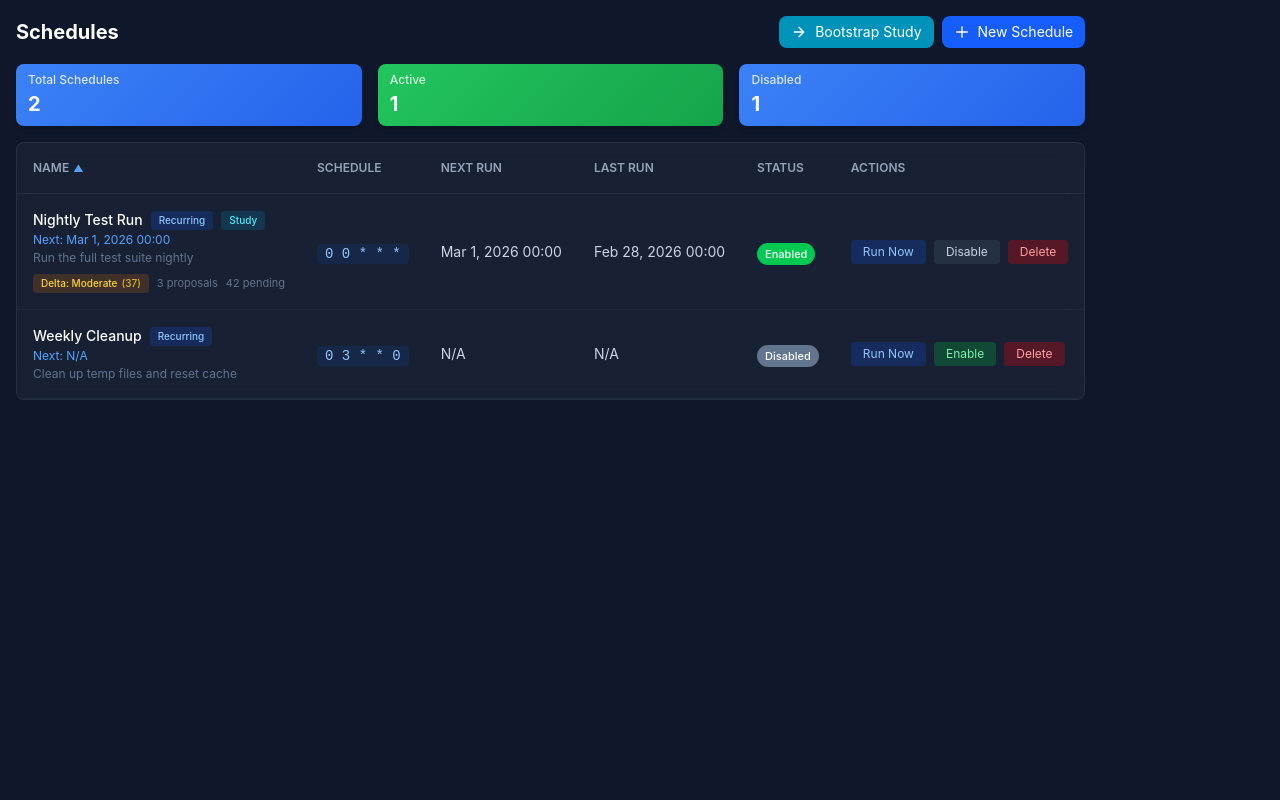
Test: Schedules › shows study intelligence controls in the detail drawer
Click the text "Nightly Test Run": (88, 220) [33,210,143,230]
(page scrolled)
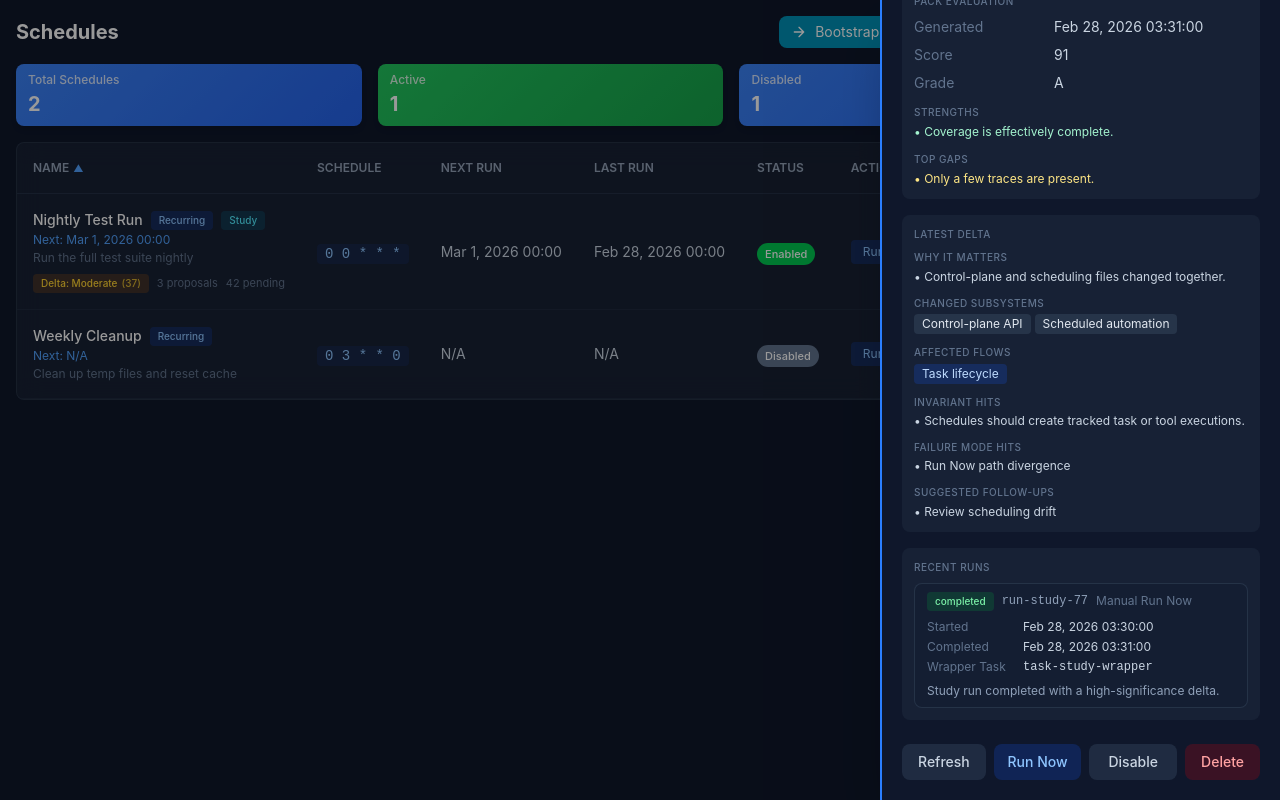
Now the text "Latest Delta" is shown, box [914,228,991,240]
Now the text "Recent Runs" is shown, box [914,560,990,575]
